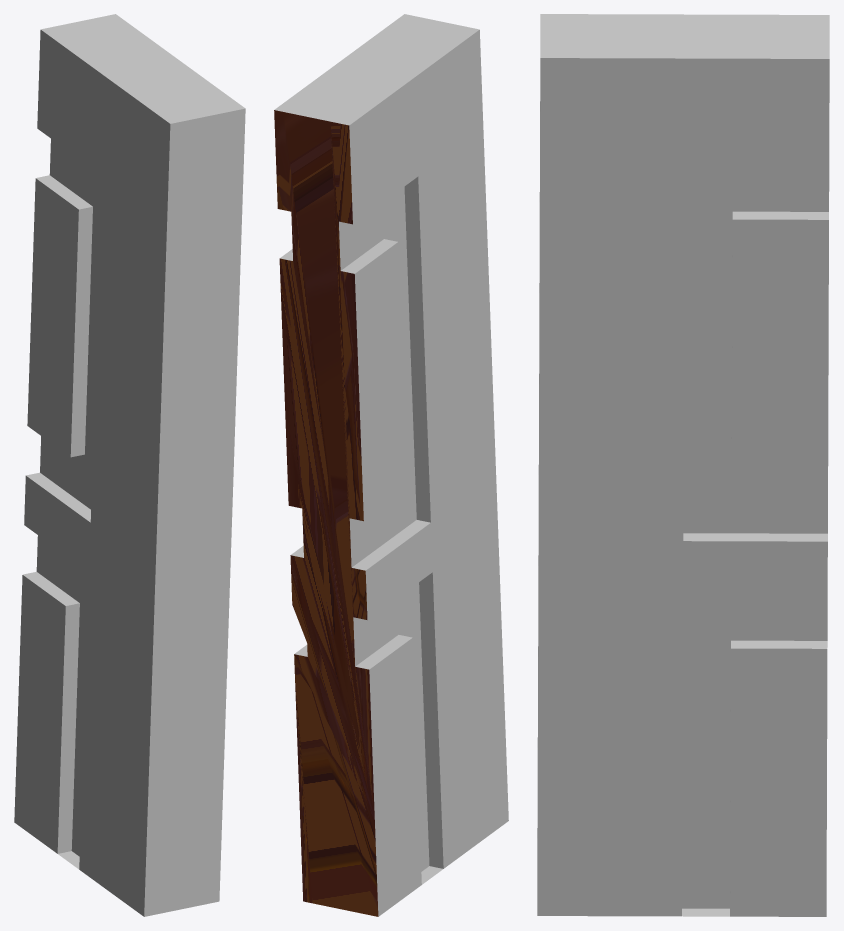
File: door01.fbx
The picture shows the model from 3 angles, left to right: view 1: azimuth 30°, elevation 25°; view 2: azimuth 150°, elevation 25°; view 3: azimuth 270°, elevation 25°; orthographic projection. The views are drawn at different scales.
Parts seen in each view (by area): view 1: Cube; view 2: Cube; view 3: Cube.
Part boxes in pixels (x1,y1,x2,y2): Cube: (14, 14, 245, 916); Cube: (274, 14, 508, 916); Cube: (537, 14, 829, 916).
Bounding box in the file's own units: 1.37 × 10.03 × 3.03.
2 materials, 1 textured.
